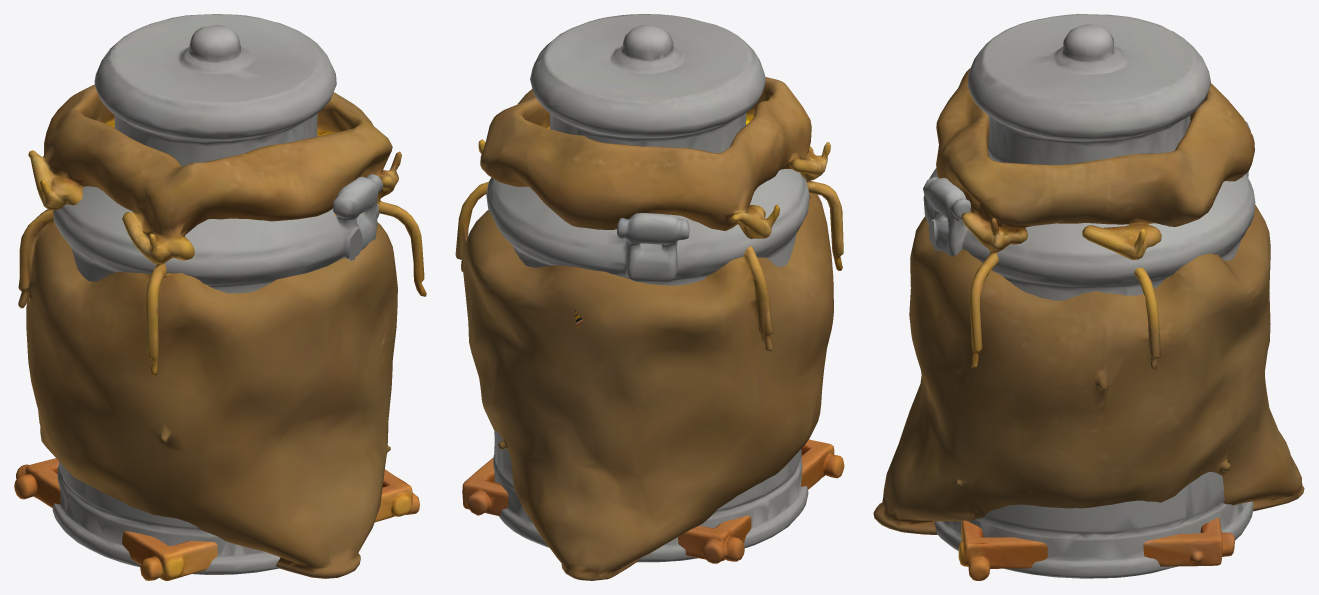
The model's file is ferme.glb.
The picture shows the model from 3 angles, left to right: view 1: azimuth 30°, elevation 25°; view 2: azimuth 150°, elevation 25°; view 3: azimuth 270°, elevation 25°; orthographic projection. The views are drawn at different scales.
Parts seen in each view (by area): view 1: sac-de-grain, bidon-a-lait, cadre-de-ruche; view 2: sac-de-grain, bidon-a-lait, cadre-de-ruche; view 3: sac-de-grain, bidon-a-lait, cadre-de-ruche.
Part boxes in pixels (<box>): sac-de-grain: <box>18,84,426,578</box>; bidon-a-lait: <box>52,14,383,574</box>; cadre-de-ruche: <box>14,458,419,580</box>; sac-de-grain: <box>455,77,843,580</box>; bidon-a-lait: <box>486,14,809,562</box>; cadre-de-ruche: <box>462,439,844,563</box>; sac-de-grain: <box>873,68,1304,534</box>; bidon-a-lait: <box>923,14,1255,578</box>; cadre-de-ruche: <box>958,518,1234,580</box>.
Size of the model in its own units: 0.4993 by 0.6998 by 0.5666.
2 materials, 2 textured.
